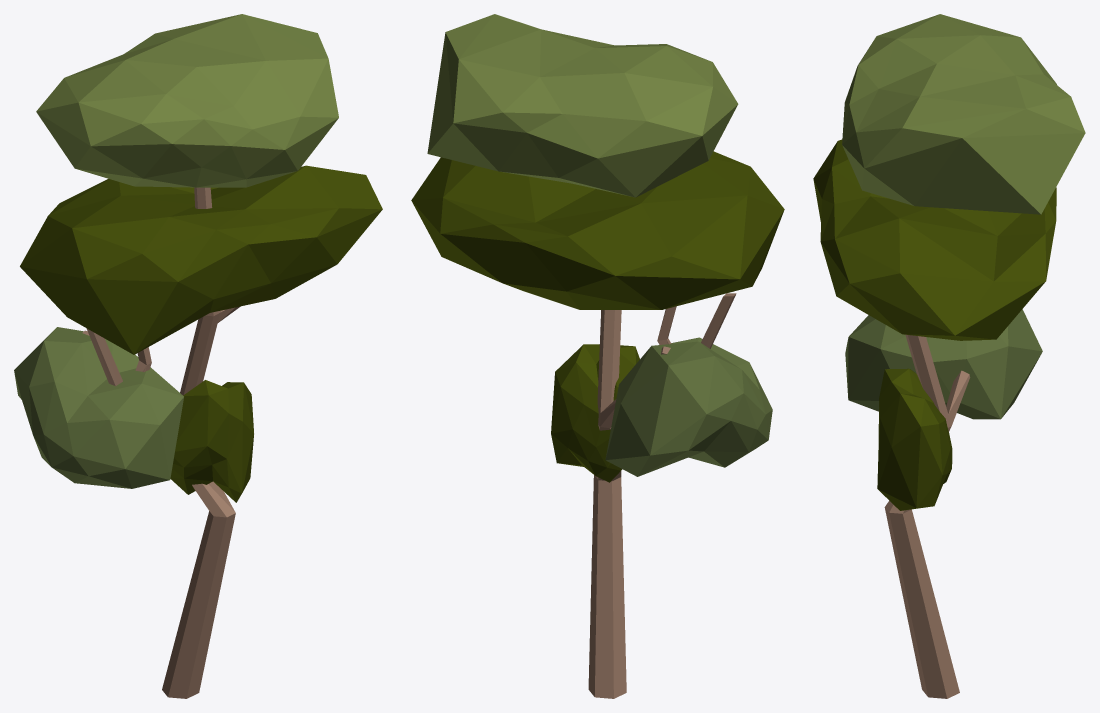
File: tree_03_05.dae
3 renders of one model, left to right at view 1: azimuth 30°, elevation 25°; view 2: azimuth 150°, elevation 25°; view 3: azimuth 270°, elevation 25°, orthographic. The views are drawn at different scales.
Parts seen in each view (by area): view 1: tree_0305; view 2: tree_0305; view 3: tree_0305.
Boxes of the visible parts, x1,y1,x2,y2 form: tree_0305: (14, 14, 382, 698); tree_0305: (411, 14, 784, 698); tree_0305: (813, 14, 1085, 698).
Bounding box in the file's own units: 3.49 × 2.43 × 6.29.
